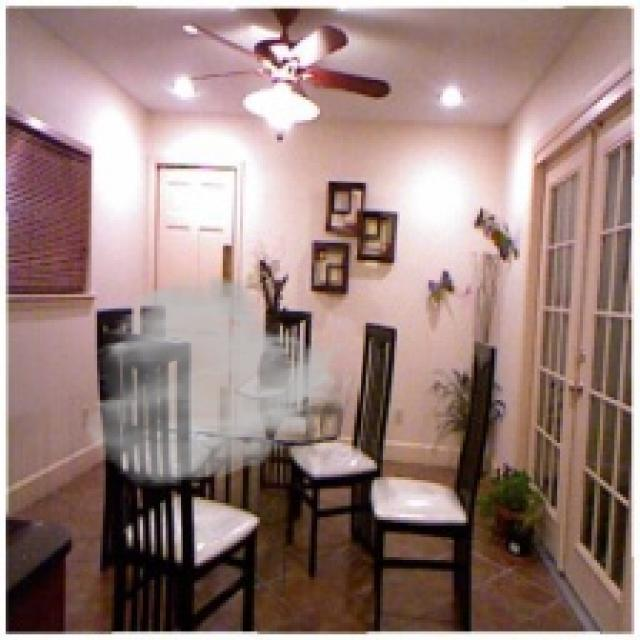Smoke: (80, 272, 352, 488)
